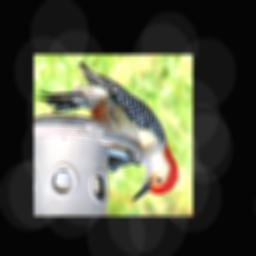Woodpecker: (37, 61, 179, 201)
